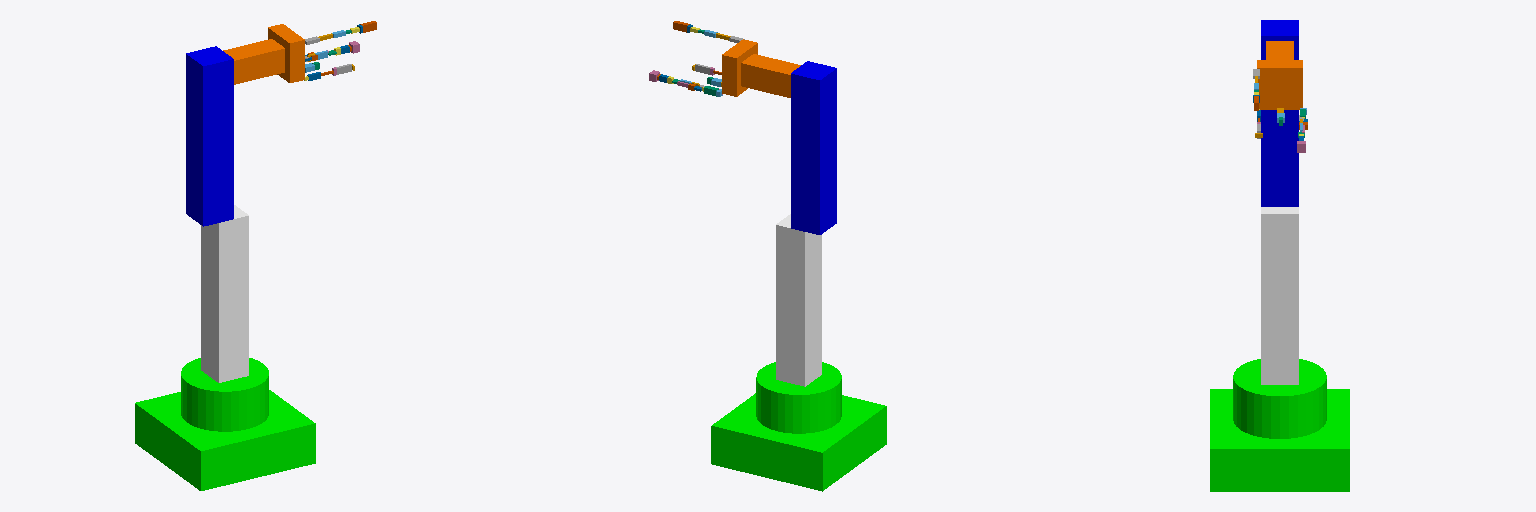
--- What the picture shows (computed from the rendered views, not written in the file) ---
The picture shows the robot from 3 angles, left to right: view 1: azimuth 30°, elevation 25°; view 2: azimuth 150°, elevation 25°; view 3: azimuth 270°, elevation 25°; orthographic projection.
Model robot with 39 links and 38 joints (35 revolute, 1 continuous, 2 fixed), rooted at base_link, posed all joints at 0.
Visible links, largest first — view 1: base_link, arm_link, support_link, wrist_link, palm_link; view 2: base_link, arm_link, support_link, wrist_link, palm_link; view 3: base_link, support_link, arm_link, palm_link, wrist_link.
Link boxes in pixels (x1,y1,x2,y2): base_link: (135, 358, 315, 490); arm_link: (186, 46, 233, 226); support_link: (201, 205, 248, 382); wrist_link: (223, 39, 284, 84); palm_link: (268, 24, 304, 82); base_link: (711, 362, 886, 491); arm_link: (791, 61, 836, 234); support_link: (776, 214, 821, 386); wrist_link: (741, 54, 800, 97); palm_link: (722, 39, 757, 96); base_link: (1210, 359, 1349, 491); support_link: (1261, 207, 1298, 384); arm_link: (1261, 20, 1298, 206); palm_link: (1257, 60, 1302, 109); wrist_link: (1266, 41, 1293, 59).
Size in the robot's own frame: 1.31 by 0.75 by 2.53 metres.
Geometry: primitives only (box / cylinder / sphere), no mesh files.

The robot description file, URDF, robot "robot":
<?xml version='1.0' encoding='utf-8'?>
<robot name="robot">
  <link name="base_link">
    <visual>
      <origin xyz="0 0 0.125" rpy="0 0 0" />
      <geometry>
        <box size="0.75 0.75 0.25" />
      </geometry>
      <material name="green" />
    </visual>
    <visual>
      <origin xyz="0 0 0.375" rpy="0 0 0" />
      <geometry>
        <cylinder length="0.25" radius="0.25" />
      </geometry>
      <material name="green">
        <color rgba="0 1 0 1" />
      </material>
    </visual>
    <collision>
      <geometry>
        <box size="0.75 0.75 0.5" />
      </geometry>
    </collision>
    <inertial>
      <mass value="0.5" />
      <inertia ixx="0.034" ixy="0.0" ixz="0.0" iyy="0.034" iyz="0.0" izz="0.034" />
    </inertial>
  </link>
  <link name="support_link">
    <visual>
      <origin xyz="0 0 0.5" rpy="0 0 0" />
      <geometry>
        <box size="0.2 0.2 1" />
      </geometry>
      <material name="white">
        <color rgba="1 1 1 1" />
      </material>
    </visual>
    <collision>
      <geometry>
        <box size="0.2 0.2 1" />
      </geometry>
    </collision>
    <inertial>
      <mass value="0.1" />
      <inertia ixx="0.01" ixy="0.0" ixz="0.0" iyy="0.01" iyz="0.0" izz="0.01" />
    </inertial>
  </link>
  <joint name="support_joint" type="continuous">
    <origin xyz="0 0 0.5" rpy="0 0 0" />
    <parent link="base_link" />
    <child link="support_link" />
    <axis xyz="0 0 1" />
  </joint>
  <link name="arm_link">
    <visual>
      <origin xyz="0 0 0.5" rpy="0 0 0" />
      <geometry>
        <box size="0.2 0.2 1" />
      </geometry>
      <material name="blue">
        <color rgba="0 0 1 1" />
      </material>
    </visual>
    <collision>
      <geometry>
        <box size="0.2 0.2 1" />
      </geometry>
    </collision>
    <inertial>
      <mass value="0.1" />
      <inertia ixx="0.01" ixy="0.0" ixz="0.0" iyy="0.01" iyz="0.0" izz="0.01" />
    </inertial>
  </link>
  <joint name="arm_joint" type="revolute">
    <origin xyz="-0.1 0 1" rpy="0 0 0" />
    <parent link="support_link" />
    <child link="arm_link" />
    <axis xyz="0 1 0" />
    <limit lower="-3.14" upper="3.14" effort="1.0" velocity="1.0" />
  </joint>
  <link name="wrist_link">
    <visual>
      <origin xyz="0 0 0.25" rpy="0 0 0" />
      <geometry>
        <box size="0.15 0.15 0.5" />
      </geometry>
      <material name="orange">
        <color rgba="1 0.5 0 1" />
      </material>
    </visual>
    <collision>
      <geometry>
        <box size="0.15 0.15 0.5" />
      </geometry>
    </collision>
    <inertial>
      <mass value="0.1" />
      <inertia ixx="0.01" ixy="0.0" ixz="0.0" iyy="0.01" iyz="0.0" izz="0.01" />
    </inertial>
  </link>
  <joint name="wrist_joint" type="fixed">
    <origin xyz="0 0 0.9" rpy="0 1.571 0" />
    <parent link="arm_link" />
    <child link="wrist_link" />
  </joint>
  <link name="palm_link">
    <visual>
      <origin xyz="0 0 0.05" rpy="0 0 0" />
      <geometry>
        <box size="0.25 0.25 0.1" />
      </geometry>
      <material name="orange" />
    </visual>
    <collision>
      <geometry>
        <box size="0.25 0.25 0.1" />
      </geometry>
    </collision>
    <inertial>
      <mass value="0.1" />
      <inertia ixx="0.01" ixy="0.0" ixz="0.0" iyy="0.01" iyz="0.0" izz="0.01" />
    </inertial>
  </link>
  <joint name="palm_joint" type="fixed">
    <origin xyz="0 0 0.45" rpy="0 0 0" />
    <parent link="wrist_link" />
    <child link="palm_link" />
  </joint>
  <link name="finger_link_0_0">
    <visual>
      <origin xyz="0 0 0.0095" rpy="0 0 0" />
      <geometry>
        <box size="0.022 0.017 0.019" />
      </geometry>
    </visual>
    <collision>
      <geometry>
        <box size="0.022 0.017 0.019" />
      </geometry>
    </collision>
    <inertial>
      <mass value="0.002" />
      <inertia ixx="0.0" iyy="0.0" izz="0.0" ixy="0" ixz="0" iyz="0" />
    </inertial>
  </link>
  <joint name="finger_joint_palm_link_to_finger_link_0_0" type="revolute">
    <origin xyz="0.125 0.119 0.1" rpy="0 0 0" />
    <parent link="palm_link" />
    <child link="finger_link_0_0" />
    <axis xyz="0.0 1.0 0.0" />
    <limit lower="-3.142" upper="3.142" effort="10" velocity="10" />
  </joint>
  <link name="finger_link_0_1">
    <visual>
      <origin xyz="0 0 0.0135" rpy="0 0 0" />
      <geometry>
        <box size="0.033 0.015 0.027" />
      </geometry>
    </visual>
    <collision>
      <geometry>
        <box size="0.033 0.015 0.027" />
      </geometry>
    </collision>
    <inertial>
      <mass value="0.004" />
      <inertia ixx="0.0" iyy="0.0" izz="0.0" ixy="0" ixz="0" iyz="0" />
    </inertial>
  </link>
  <joint name="finger_joint_finger_link_0_0_to_finger_link_0_1" type="revolute">
    <origin xyz="0.0 0.0 0.019" rpy="0 0 0" />
    <parent link="finger_link_0_0" />
    <child link="finger_link_0_1" />
    <axis xyz="1.0 0.0 0.0" />
    <limit lower="-3.142" upper="3.142" effort="10" velocity="10" />
  </joint>
  <link name="finger_link_0_2">
    <visual>
      <origin xyz="0 0 0.0135" rpy="0 0 0" />
      <geometry>
        <box size="0.022 0.029 0.027" />
      </geometry>
    </visual>
    <collision>
      <geometry>
        <box size="0.022 0.029 0.027" />
      </geometry>
    </collision>
    <inertial>
      <mass value="0.005" />
      <inertia ixx="0.0" iyy="0.0" izz="0.0" ixy="0" ixz="0" iyz="0" />
    </inertial>
  </link>
  <joint name="finger_joint_finger_link_0_1_to_finger_link_0_2" type="revolute">
    <origin xyz="0.0 0.0 0.027" rpy="0 0 0" />
    <parent link="finger_link_0_1" />
    <child link="finger_link_0_2" />
    <axis xyz="0.0 1.0 0.0" />
    <limit lower="-3.142" upper="3.142" effort="10" velocity="10" />
  </joint>
  <link name="finger_link_1_0">
    <visual>
      <origin xyz="0 0 0.033" rpy="0 0 0" />
      <geometry>
        <box size="0.025 0.036 0.066" />
      </geometry>
    </visual>
    <collision>
      <geometry>
        <box size="0.025 0.036 0.066" />
      </geometry>
    </collision>
    <inertial>
      <mass value="0.018" />
      <inertia ixx="0.0" iyy="0.0" izz="0.0" ixy="0" ixz="0" iyz="0" />
    </inertial>
  </link>
  <joint name="finger_joint_palm_link_to_finger_link_1_0" type="revolute">
    <origin xyz="0.125 0.004 0.1" rpy="0 0 0" />
    <parent link="palm_link" />
    <child link="finger_link_1_0" />
    <axis xyz="0.0 1.0 0.0" />
    <limit lower="-3.142" upper="3.142" effort="10" velocity="10" />
  </joint>
  <link name="finger_link_1_1">
    <visual>
      <origin xyz="0 0 0.031" rpy="0 0 0" />
      <geometry>
        <box size="0.031 0.041 0.062" />
      </geometry>
    </visual>
    <collision>
      <geometry>
        <box size="0.031 0.041 0.062" />
      </geometry>
    </collision>
    <inertial>
      <mass value="0.024" />
      <inertia ixx="0.0" iyy="0.0" izz="0.0" ixy="0" ixz="0" iyz="0" />
    </inertial>
  </link>
  <joint name="finger_joint_finger_link_1_0_to_finger_link_1_1" type="revolute">
    <origin xyz="0.0 0.0 0.066" rpy="0 0 0" />
    <parent link="finger_link_1_0" />
    <child link="finger_link_1_1" />
    <axis xyz="1.0 0.0 0.0" />
    <limit lower="-3.142" upper="3.142" effort="10" velocity="10" />
  </joint>
  <link name="finger_link_1_2">
    <visual>
      <origin xyz="0 0 0.017" rpy="0 0 0" />
      <geometry>
        <box size="0.038 0.022 0.034" />
      </geometry>
    </visual>
    <collision>
      <geometry>
        <box size="0.038 0.022 0.034" />
      </geometry>
    </collision>
    <inertial>
      <mass value="0.009" />
      <inertia ixx="0.0" iyy="0.0" izz="0.0" ixy="0" ixz="0" iyz="0" />
    </inertial>
  </link>
  <joint name="finger_joint_finger_link_1_1_to_finger_link_1_2" type="revolute">
    <origin xyz="0.0 0.0 0.062" rpy="0 0 0" />
    <parent link="finger_link_1_1" />
    <child link="finger_link_1_2" />
    <axis xyz="1.0 0.0 0.0" />
    <limit lower="-3.142" upper="3.142" effort="10" velocity="10" />
  </joint>
  <link name="finger_link_2_0">
    <visual>
      <origin xyz="0 0 0.0135" rpy="0 0 0" />
      <geometry>
        <box size="0.02 0.012 0.027" />
      </geometry>
    </visual>
    <collision>
      <geometry>
        <box size="0.02 0.012 0.027" />
      </geometry>
    </collision>
    <inertial>
      <mass value="0.002" />
      <inertia ixx="0.0" iyy="0.0" izz="0.0" ixy="0" ixz="0" iyz="0" />
    </inertial>
  </link>
  <joint name="finger_joint_palm_link_to_finger_link_2_0" type="revolute">
    <origin xyz="0.125 -0.112 0.1" rpy="0 0 0" />
    <parent link="palm_link" />
    <child link="finger_link_2_0" />
    <axis xyz="0.0 1.0 0.0" />
    <limit lower="-3.142" upper="3.142" effort="10" velocity="10" />
  </joint>
  <link name="finger_link_2_1">
    <visual>
      <origin xyz="0 0 0.04" rpy="0 0 0" />
      <geometry>
        <box size="0.035 0.018 0.08" />
      </geometry>
    </visual>
    <collision>
      <geometry>
        <box size="0.035 0.018 0.08" />
      </geometry>
    </collision>
    <inertial>
      <mass value="0.015" />
      <inertia ixx="0.0" iyy="0.0" izz="0.0" ixy="0" ixz="0" iyz="0" />
    </inertial>
  </link>
  <joint name="finger_joint_finger_link_2_0_to_finger_link_2_1" type="revolute">
    <origin xyz="0.0 0.0 0.027" rpy="0 0 0" />
    <parent link="finger_link_2_0" />
    <child link="finger_link_2_1" />
    <axis xyz="1.0 0.0 0.0" />
    <limit lower="-3.142" upper="3.142" effort="10" velocity="10" />
  </joint>
  <link name="finger_link_2_2">
    <visual>
      <origin xyz="0 0 0.042" rpy="0 0 0" />
      <geometry>
        <box size="0.014 0.012 0.084" />
      </geometry>
    </visual>
    <collision>
      <geometry>
        <box size="0.014 0.012 0.084" />
      </geometry>
    </collision>
    <inertial>
      <mass value="0.004" />
      <inertia ixx="0.0" iyy="0.0" izz="0.0" ixy="0" ixz="0" iyz="0" />
    </inertial>
  </link>
  <joint name="finger_joint_finger_link_2_1_to_finger_link_2_2" type="revolute">
    <origin xyz="0.0 0.0 0.08" rpy="0 0 0" />
    <parent link="finger_link_2_1" />
    <child link="finger_link_2_2" />
    <axis xyz="1.0 0.0 0.0" />
    <limit lower="-3.142" upper="3.142" effort="10" velocity="10" />
  </joint>
  <link name="finger_link_2_3">
    <visual>
      <origin xyz="0 0 0.011" rpy="0 0 0" />
      <geometry>
        <box size="0.043 0.019 0.022" />
      </geometry>
    </visual>
    <collision>
      <geometry>
        <box size="0.043 0.019 0.022" />
      </geometry>
    </collision>
    <inertial>
      <mass value="0.005" />
      <inertia ixx="0.0" iyy="0.0" izz="0.0" ixy="0" ixz="0" iyz="0" />
    </inertial>
  </link>
  <joint name="finger_joint_finger_link_2_2_to_finger_link_2_3" type="revolute">
    <origin xyz="0.0 0.0 0.084" rpy="0 0 0" />
    <parent link="finger_link_2_2" />
    <child link="finger_link_2_3" />
    <axis xyz="1.0 0.0 0.0" />
    <limit lower="-3.142" upper="3.142" effort="10" velocity="10" />
  </joint>
  <link name="finger_link_2_4">
    <visual>
      <origin xyz="0 0 0.049" rpy="0 0 0" />
      <geometry>
        <box size="0.042 0.017 0.098" />
      </geometry>
    </visual>
    <collision>
      <geometry>
        <box size="0.042 0.017 0.098" />
      </geometry>
    </collision>
    <inertial>
      <mass value="0.021" />
      <inertia ixx="0.0" iyy="0.0" izz="0.0" ixy="0" ixz="0" iyz="0" />
    </inertial>
  </link>
  <joint name="finger_joint_finger_link_2_3_to_finger_link_2_4" type="revolute">
    <origin xyz="0.0 0.0 0.022" rpy="0 0 0" />
    <parent link="finger_link_2_3" />
    <child link="finger_link_2_4" />
    <axis xyz="1.0 0.0 0.0" />
    <limit lower="-3.142" upper="3.142" effort="10" velocity="10" />
  </joint>
  <link name="finger_link_2_5">
    <visual>
      <origin xyz="0 0 0.0065" rpy="0 0 0" />
      <geometry>
        <box size="0.026 0.042 0.013" />
      </geometry>
    </visual>
    <collision>
      <geometry>
        <box size="0.026 0.042 0.013" />
      </geometry>
    </collision>
    <inertial>
      <mass value="0.004" />
      <inertia ixx="0.0" iyy="0.0" izz="0.0" ixy="0" ixz="0" iyz="0" />
    </inertial>
  </link>
  <joint name="finger_joint_finger_link_2_4_to_finger_link_2_5" type="revolute">
    <origin xyz="0.0 0.0 0.098" rpy="0 0 0" />
    <parent link="finger_link_2_4" />
    <child link="finger_link_2_5" />
    <axis xyz="0.0 1.0 0.0" />
    <limit lower="-3.142" upper="3.142" effort="10" velocity="10" />
  </joint>
  <link name="finger_link_3_0">
    <visual>
      <origin xyz="0 0 0.0135" rpy="0 0 0" />
      <geometry>
        <box size="0.033 0.037 0.027" />
      </geometry>
    </visual>
    <collision>
      <geometry>
        <box size="0.033 0.037 0.027" />
      </geometry>
    </collision>
    <inertial>
      <mass value="0.01" />
      <inertia ixx="0.0" iyy="0.0" izz="0.0" ixy="0" ixz="0" iyz="0" />
    </inertial>
  </link>
  <joint name="finger_joint_palm_link_to_finger_link_3_0" type="revolute">
    <origin xyz="0.125 0.125 0.1" rpy="0 0 0" />
    <parent link="palm_link" />
    <child link="finger_link_3_0" />
    <axis xyz="0.0 1.0 0.0" />
    <limit lower="-3.142" upper="3.142" effort="10" velocity="10" />
  </joint>
  <link name="finger_link_3_1">
    <visual>
      <origin xyz="0 0 0.0425" rpy="0 0 0" />
      <geometry>
        <box size="0.039 0.032 0.085" />
      </geometry>
    </visual>
    <collision>
      <geometry>
        <box size="0.039 0.032 0.085" />
      </geometry>
    </collision>
    <inertial>
      <mass value="0.032" />
      <inertia ixx="0.0" iyy="0.0" izz="0.0" ixy="0" ixz="0" iyz="0" />
    </inertial>
  </link>
  <joint name="finger_joint_finger_link_3_0_to_finger_link_3_1" type="revolute">
    <origin xyz="0.0 0.0 0.027" rpy="0 0 0" />
    <parent link="finger_link_3_0" />
    <child link="finger_link_3_1" />
    <axis xyz="0.0 1.0 0.0" />
    <limit lower="-3.142" upper="3.142" effort="10" velocity="10" />
  </joint>
  <link name="finger_link_3_2">
    <visual>
      <origin xyz="0 0 0.0075" rpy="0 0 0" />
      <geometry>
        <box size="0.026 0.014 0.015" />
      </geometry>
    </visual>
    <collision>
      <geometry>
        <box size="0.026 0.014 0.015" />
      </geometry>
    </collision>
    <inertial>
      <mass value="0.002" />
      <inertia ixx="0.0" iyy="0.0" izz="0.0" ixy="0" ixz="0" iyz="0" />
    </inertial>
  </link>
  <joint name="finger_joint_finger_link_3_1_to_finger_link_3_2" type="revolute">
    <origin xyz="0.0 0.0 0.085" rpy="0 0 0" />
    <parent link="finger_link_3_1" />
    <child link="finger_link_3_2" />
    <axis xyz="1.0 0.0 0.0" />
    <limit lower="-3.142" upper="3.142" effort="10" velocity="10" />
  </joint>
  <link name="finger_link_3_3">
    <visual>
      <origin xyz="0 0 0.0235" rpy="0 0 0" />
      <geometry>
        <box size="0.015 0.05 0.047" />
      </geometry>
    </visual>
    <collision>
      <geometry>
        <box size="0.015 0.05 0.047" />
      </geometry>
    </collision>
    <inertial>
      <mass value="0.011" />
      <inertia ixx="0.0" iyy="0.0" izz="0.0" ixy="0" ixz="0" iyz="0" />
    </inertial>
  </link>
  <joint name="finger_joint_finger_link_3_2_to_finger_link_3_3" type="revolute">
    <origin xyz="0.0 0.0 0.015" rpy="0 0 0" />
    <parent link="finger_link_3_2" />
    <child link="finger_link_3_3" />
    <axis xyz="0.0 1.0 0.0" />
    <limit lower="-3.142" upper="3.142" effort="10" velocity="10" />
  </joint>
  <link name="finger_link_3_4">
    <visual>
      <origin xyz="0 0 0.019" rpy="0 0 0" />
      <geometry>
        <box size="0.031 0.046 0.038" />
      </geometry>
    </visual>
    <collision>
      <geometry>
        <box size="0.031 0.046 0.038" />
      </geometry>
    </collision>
    <inertial>
      <mass value="0.016" />
      <inertia ixx="0.0" iyy="0.0" izz="0.0" ixy="0" ixz="0" iyz="0" />
    </inertial>
  </link>
  <joint name="finger_joint_finger_link_3_3_to_finger_link_3_4" type="revolute">
    <origin xyz="0.0 0.0 0.047" rpy="0 0 0" />
    <parent link="finger_link_3_3" />
    <child link="finger_link_3_4" />
    <axis xyz="1.0 0.0 0.0" />
    <limit lower="-3.142" upper="3.142" effort="10" velocity="10" />
  </joint>
  <link name="finger_link_3_5">
    <visual>
      <origin xyz="0 0 0.042" rpy="0 0 0" />
      <geometry>
        <box size="0.022 0.02 0.084" />
      </geometry>
    </visual>
    <collision>
      <geometry>
        <box size="0.022 0.02 0.084" />
      </geometry>
    </collision>
    <inertial>
      <mass value="0.011" />
      <inertia ixx="0.0" iyy="0.0" izz="0.0" ixy="0" ixz="0" iyz="0" />
    </inertial>
  </link>
  <joint name="finger_joint_finger_link_3_4_to_finger_link_3_5" type="revolute">
    <origin xyz="0.0 0.0 0.038" rpy="0 0 0" />
    <parent link="finger_link_3_4" />
    <child link="finger_link_3_5" />
    <axis xyz="0.0 1.0 0.0" />
    <limit lower="-3.142" upper="3.142" effort="10" velocity="10" />
  </joint>
  <link name="finger_link_4_0">
    <visual>
      <origin xyz="0 0 0.043" rpy="0 0 0" />
      <geometry>
        <box size="0.021 0.035 0.086" />
      </geometry>
    </visual>
    <collision>
      <geometry>
        <box size="0.021 0.035 0.086" />
      </geometry>
    </collision>
    <inertial>
      <mass value="0.019" />
      <inertia ixx="0.0" iyy="0.0" izz="0.0" ixy="0" ixz="0" iyz="0" />
    </inertial>
  </link>
  <joint name="finger_joint_palm_link_to_finger_link_4_0" type="revolute">
    <origin xyz="-0.109 -0.125 0.1" rpy="0 0 0" />
    <parent link="palm_link" />
    <child link="finger_link_4_0" />
    <axis xyz="1.0 0.0 0.0" />
    <limit lower="-3.142" upper="3.142" effort="10" velocity="10" />
  </joint>
  <link name="finger_link_4_1">
    <visual>
      <origin xyz="0 0 0.047" rpy="0 0 0" />
      <geometry>
        <box size="0.022 0.017 0.094" />
      </geometry>
    </visual>
    <collision>
      <geometry>
        <box size="0.022 0.017 0.094" />
      </geometry>
    </collision>
    <inertial>
      <mass value="0.011" />
      <inertia ixx="0.0" iyy="0.0" izz="0.0" ixy="0" ixz="0" iyz="0" />
    </inertial>
  </link>
  <joint name="finger_joint_finger_link_4_0_to_finger_link_4_1" type="revolute">
    <origin xyz="0.0 0.0 0.086" rpy="0 0 0" />
    <parent link="finger_link_4_0" />
    <child link="finger_link_4_1" />
    <axis xyz="0.0 1.0 0.0" />
    <limit lower="-3.142" upper="3.142" effort="10" velocity="10" />
  </joint>
  <link name="finger_link_4_2">
    <visual>
      <origin xyz="0 0 0.0395" rpy="0 0 0" />
      <geometry>
        <box size="0.025 0.028 0.079" />
      </geometry>
    </visual>
    <collision>
      <geometry>
        <box size="0.025 0.028 0.079" />
      </geometry>
    </collision>
    <inertial>
      <mass value="0.017" />
      <inertia ixx="0.0" iyy="0.0" izz="0.0" ixy="0" ixz="0" iyz="0" />
    </inertial>
  </link>
  <joint name="finger_joint_finger_link_4_1_to_finger_link_4_2" type="revolute">
    <origin xyz="0.0 0.0 0.094" rpy="0 0 0" />
    <parent link="finger_link_4_1" />
    <child link="finger_link_4_2" />
    <axis xyz="1.0 0.0 0.0" />
    <limit lower="-3.142" upper="3.142" effort="10" velocity="10" />
  </joint>
  <link name="finger_link_4_3">
    <visual>
      <origin xyz="0 0 0.019" rpy="0 0 0" />
      <geometry>
        <box size="0.013 0.023 0.038" />
      </geometry>
    </visual>
    <collision>
      <geometry>
        <box size="0.013 0.023 0.038" />
      </geometry>
    </collision>
    <inertial>
      <mass value="0.003" />
      <inertia ixx="0.0" iyy="0.0" izz="0.0" ixy="0" ixz="0" iyz="0" />
    </inertial>
  </link>
  <joint name="finger_joint_finger_link_4_2_to_finger_link_4_3" type="revolute">
    <origin xyz="0.0 0.0 0.079" rpy="0 0 0" />
    <parent link="finger_link_4_2" />
    <child link="finger_link_4_3" />
    <axis xyz="1.0 0.0 0.0" />
    <limit lower="-3.142" upper="3.142" effort="10" velocity="10" />
  </joint>
  <link name="finger_link_4_4">
    <visual>
      <origin xyz="0 0 0.0275" rpy="0 0 0" />
      <geometry>
        <box size="0.022 0.025 0.055" />
      </geometry>
    </visual>
    <collision>
      <geometry>
        <box size="0.022 0.025 0.055" />
      </geometry>
    </collision>
    <inertial>
      <mass value="0.009" />
      <inertia ixx="0.0" iyy="0.0" izz="0.0" ixy="0" ixz="0" iyz="0" />
    </inertial>
  </link>
  <joint name="finger_joint_finger_link_4_3_to_finger_link_4_4" type="revolute">
    <origin xyz="0.0 0.0 0.038" rpy="0 0 0" />
    <parent link="finger_link_4_3" />
    <child link="finger_link_4_4" />
    <axis xyz="0.0 1.0 0.0" />
    <limit lower="-3.142" upper="3.142" effort="10" velocity="10" />
  </joint>
  <link name="finger_link_4_5">
    <visual>
      <origin xyz="0 0 0.0085" rpy="0 0 0" />
      <geometry>
        <box size="0.04 0.035 0.017" />
      </geometry>
    </visual>
    <collision>
      <geometry>
        <box size="0.04 0.035 0.017" />
      </geometry>
    </collision>
    <inertial>
      <mass value="0.007" />
      <inertia ixx="0.0" iyy="0.0" izz="0.0" ixy="0" ixz="0" iyz="0" />
    </inertial>
  </link>
  <joint name="finger_joint_finger_link_4_4_to_finger_link_4_5" type="revolute">
    <origin xyz="0.0 0.0 0.055" rpy="0 0 0" />
    <parent link="finger_link_4_4" />
    <child link="finger_link_4_5" />
    <axis xyz="0.0 1.0 0.0" />
    <limit lower="-3.142" upper="3.142" effort="10" velocity="10" />
  </joint>
  <link name="finger_link_4_6">
    <visual>
      <origin xyz="0 0 0.0475" rpy="0 0 0" />
      <geometry>
        <box size="0.046 0.028 0.095" />
      </geometry>
    </visual>
    <collision>
      <geometry>
        <box size="0.046 0.028 0.095" />
      </geometry>
    </collision>
    <inertial>
      <mass value="0.037" />
      <inertia ixx="0.0" iyy="0.0" izz="0.0" ixy="0" ixz="0" iyz="0" />
    </inertial>
  </link>
  <joint name="finger_joint_finger_link_4_5_to_finger_link_4_6" type="revolute">
    <origin xyz="0.0 0.0 0.017" rpy="0 0 0" />
    <parent link="finger_link_4_5" />
    <child link="finger_link_4_6" />
    <axis xyz="1.0 0.0 0.0" />
    <limit lower="-3.142" upper="3.142" effort="10" velocity="10" />
  </joint>
  <link name="finger_link_5_0">
    <visual>
      <origin xyz="0 0 0.0395" rpy="0 0 0" />
      <geometry>
        <box size="0.023 0.011 0.079" />
      </geometry>
    </visual>
    <collision>
      <geometry>
        <box size="0.023 0.011 0.079" />
      </geometry>
    </collision>
    <inertial>
      <mass value="0.006" />
      <inertia ixx="0.0" iyy="0.0" izz="0.0" ixy="0" ixz="0" iyz="0" />
    </inertial>
  </link>
  <joint name="finger_joint_palm_link_to_finger_link_5_0" type="revolute">
    <origin xyz="0.125 0.114 0.1" rpy="0 0 0" />
    <parent link="palm_link" />
    <child link="finger_link_5_0" />
    <axis xyz="0.0 1.0 0.0" />
    <limit lower="-3.142" upper="3.142" effort="10" velocity="10" />
  </joint>
  <link name="finger_link_5_1">
    <visual>
      <origin xyz="0 0 0.038" rpy="0 0 0" />
      <geometry>
        <box size="0.023 0.025 0.076" />
      </geometry>
    </visual>
    <collision>
      <geometry>
        <box size="0.023 0.025 0.076" />
      </geometry>
    </collision>
    <inertial>
      <mass value="0.013" />
      <inertia ixx="0.0" iyy="0.0" izz="0.0" ixy="0" ixz="0" iyz="0" />
    </inertial>
  </link>
  <joint name="finger_joint_finger_link_5_0_to_finger_link_5_1" type="revolute">
    <origin xyz="0.0 0.0 0.079" rpy="0 0 0" />
    <parent link="finger_link_5_0" />
    <child link="finger_link_5_1" />
    <axis xyz="1.0 0.0 0.0" />
    <limit lower="-3.142" upper="3.142" effort="10" velocity="10" />
  </joint>
  <link name="finger_link_5_2">
    <visual>
      <origin xyz="0 0 0.0245" rpy="0 0 0" />
      <geometry>
        <box size="0.039 0.015 0.049" />
      </geometry>
    </visual>
    <collision>
      <geometry>
        <box size="0.039 0.015 0.049" />
      </geometry>
    </collision>
    <inertial>
      <mass value="0.009" />
      <inertia ixx="0.0" iyy="0.0" izz="0.0" ixy="0" ixz="0" iyz="0" />
    </inertial>
  </link>
  <joint name="finger_joint_finger_link_5_1_to_finger_link_5_2" type="revolute">
    <origin xyz="0.0 0.0 0.076" rpy="0 0 0" />
    <parent link="finger_link_5_1" />
    <child link="finger_link_5_2" />
    <axis xyz="1.0 0.0 0.0" />
    <limit lower="-3.142" upper="3.142" effort="10" velocity="10" />
  </joint>
  <link name="finger_link_5_3">
    <visual>
      <origin xyz="0 0 0.0405" rpy="0 0 0" />
      <geometry>
        <box size="0.037 0.019 0.081" />
      </geometry>
    </visual>
    <collision>
      <geometry>
        <box size="0.037 0.019 0.081" />
      </geometry>
    </collision>
    <inertial>
      <mass value="0.017" />
      <inertia ixx="0.0" iyy="0.0" izz="0.0" ixy="0" ixz="0" iyz="0" />
    </inertial>
  </link>
  <joint name="finger_joint_finger_link_5_2_to_finger_link_5_3" type="revolute">
    <origin xyz="0.0 0.0 0.049" rpy="0 0 0" />
    <parent link="finger_link_5_2" />
    <child link="finger_link_5_3" />
    <axis xyz="1.0 0.0 0.0" />
    <limit lower="-3.142" upper="3.142" effort="10" velocity="10" />
  </joint>
  <link name="finger_link_5_4">
    <visual>
      <origin xyz="0 0 0.0245" rpy="0 0 0" />
      <geometry>
        <box size="0.01 0.039 0.049" />
      </geometry>
    </visual>
    <collision>
      <geometry>
        <box size="0.01 0.039 0.049" />
      </geometry>
    </collision>
    <inertial>
      <mass value="0.006" />
      <inertia ixx="0.0" iyy="0.0" izz="0.0" ixy="0" ixz="0" iyz="0" />
    </inertial>
  </link>
  <joint name="finger_joint_finger_link_5_3_to_finger_link_5_4" type="revolute">
    <origin xyz="0.0 0.0 0.081" rpy="0 0 0" />
    <parent link="finger_link_5_3" />
    <child link="finger_link_5_4" />
    <axis xyz="1.0 0.0 0.0" />
    <limit lower="-3.142" upper="3.142" effort="10" velocity="10" />
  </joint>
  <link name="finger_link_5_5">
    <visual>
      <origin xyz="0 0 0.016" rpy="0 0 0" />
      <geometry>
        <box size="0.037 0.024 0.032" />
      </geometry>
    </visual>
    <collision>
      <geometry>
        <box size="0.037 0.024 0.032" />
      </geometry>
    </collision>
    <inertial>
      <mass value="0.009" />
      <inertia ixx="0.0" iyy="0.0" izz="0.0" ixy="0" ixz="0" iyz="0" />
    </inertial>
  </link>
  <joint name="finger_joint_finger_link_5_4_to_finger_link_5_5" type="revolute">
    <origin xyz="0.0 0.0 0.049" rpy="0 0 0" />
    <parent link="finger_link_5_4" />
    <child link="finger_link_5_5" />
    <axis xyz="1.0 0.0 0.0" />
    <limit lower="-3.142" upper="3.142" effort="10" velocity="10" />
  </joint>
  <link name="finger_link_5_6">
    <visual>
      <origin xyz="0 0 0.0275" rpy="0 0 0" />
      <geometry>
        <box size="0.036 0.027 0.055" />
      </geometry>
    </visual>
    <collision>
      <geometry>
        <box size="0.036 0.027 0.055" />
      </geometry>
    </collision>
    <inertial>
      <mass value="0.016" />
      <inertia ixx="0.0" iyy="0.0" izz="0.0" ixy="0" ixz="0" iyz="0" />
    </inertial>
  </link>
  <joint name="finger_joint_finger_link_5_5_to_finger_link_5_6" type="revolute">
    <origin xyz="0.0 0.0 0.032" rpy="0 0 0" />
    <parent link="finger_link_5_5" />
    <child link="finger_link_5_6" />
    <axis xyz="1.0 0.0 0.0" />
    <limit lower="-3.142" upper="3.142" effort="10" velocity="10" />
  </joint>
  <link name="finger_link_5_7">
    <visual>
      <origin xyz="0 0 0.0075" rpy="0 0 0" />
      <geometry>
        <box size="0.024 0.033 0.015" />
      </geometry>
    </visual>
    <collision>
      <geometry>
        <box size="0.024 0.033 0.015" />
      </geometry>
    </collision>
    <inertial>
      <mass value="0.004" />
      <inertia ixx="0.0" iyy="0.0" izz="0.0" ixy="0" ixz="0" iyz="0" />
    </inertial>
  </link>
  <joint name="finger_joint_finger_link_5_6_to_finger_link_5_7" type="revolute">
    <origin xyz="0.0 0.0 0.055" rpy="0 0 0" />
    <parent link="finger_link_5_6" />
    <child link="finger_link_5_7" />
    <axis xyz="0.0 1.0 0.0" />
    <limit lower="-3.142" upper="3.142" effort="10" velocity="10" />
  </joint>
  <link name="finger_link_5_8">
    <visual>
      <origin xyz="0 0 0.0225" rpy="0 0 0" />
      <geometry>
        <box size="0.049 0.05 0.045" />
      </geometry>
    </visual>
    <collision>
      <geometry>
        <box size="0.049 0.05 0.045" />
      </geometry>
    </collision>
    <inertial>
      <mass value="0.033" />
      <inertia ixx="0.0" iyy="0.0" izz="0.0" ixy="0" ixz="0" iyz="0" />
    </inertial>
  </link>
  <joint name="finger_joint_finger_link_5_7_to_finger_link_5_8" type="revolute">
    <origin xyz="0.0 0.0 0.015" rpy="0 0 0" />
    <parent link="finger_link_5_7" />
    <child link="finger_link_5_8" />
    <axis xyz="0.0 1.0 0.0" />
    <limit lower="-3.142" upper="3.142" effort="10" velocity="10" />
  </joint>
</robot>
